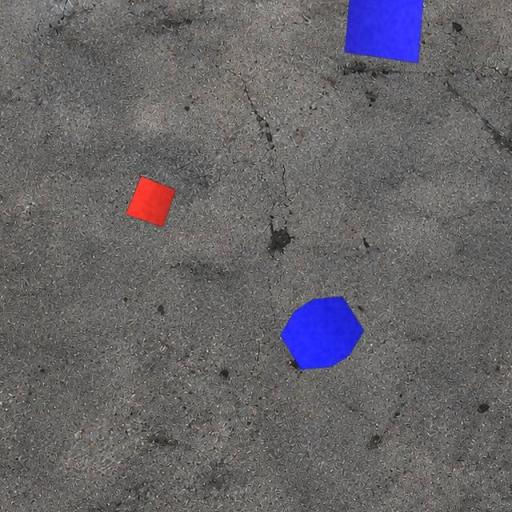BLUE_SQUARE: (344, 0, 426, 64)
RED_SQUARE: (125, 175, 177, 228)
